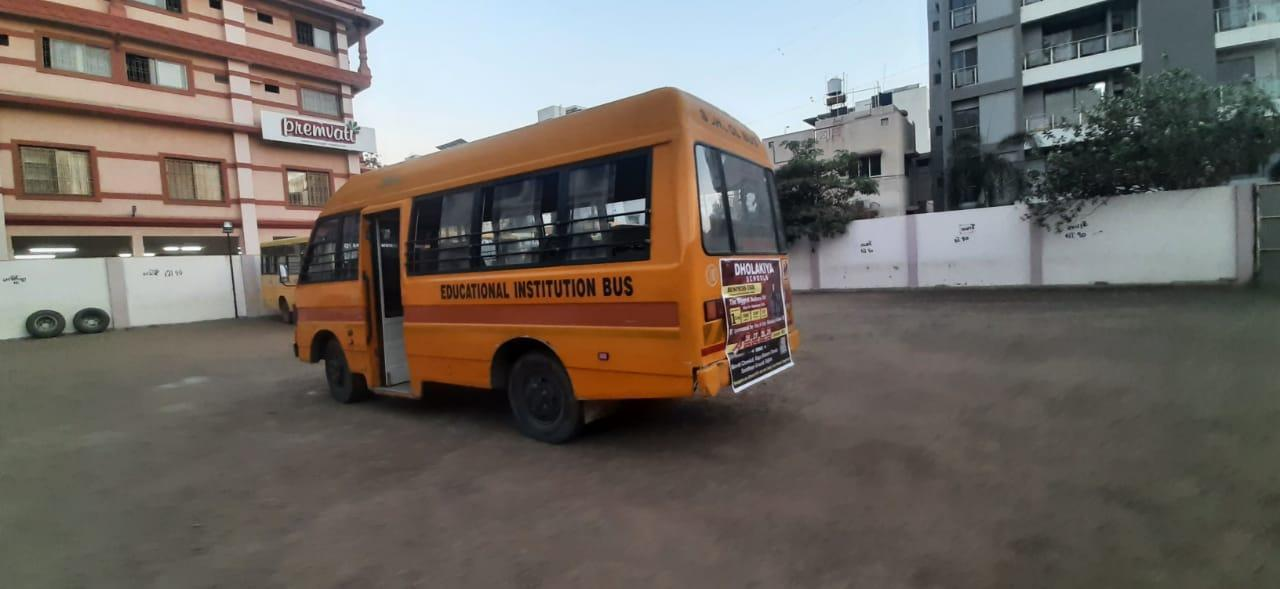Bus: (280, 79, 815, 470)
